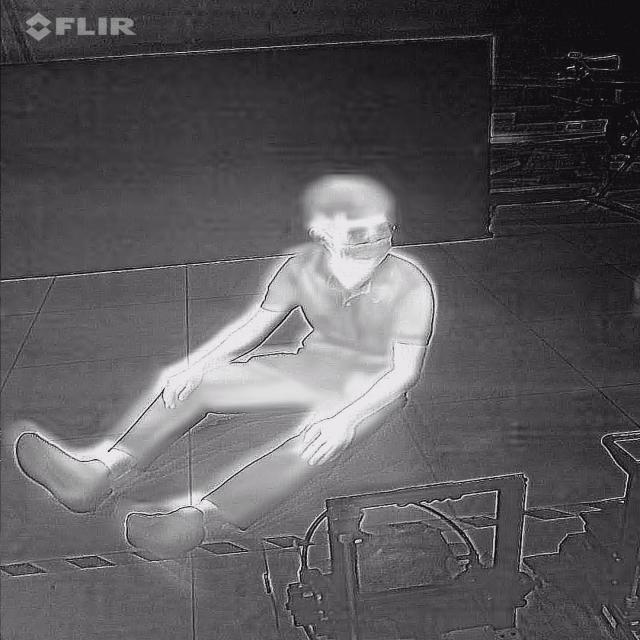Victim: (14, 174, 450, 558)
